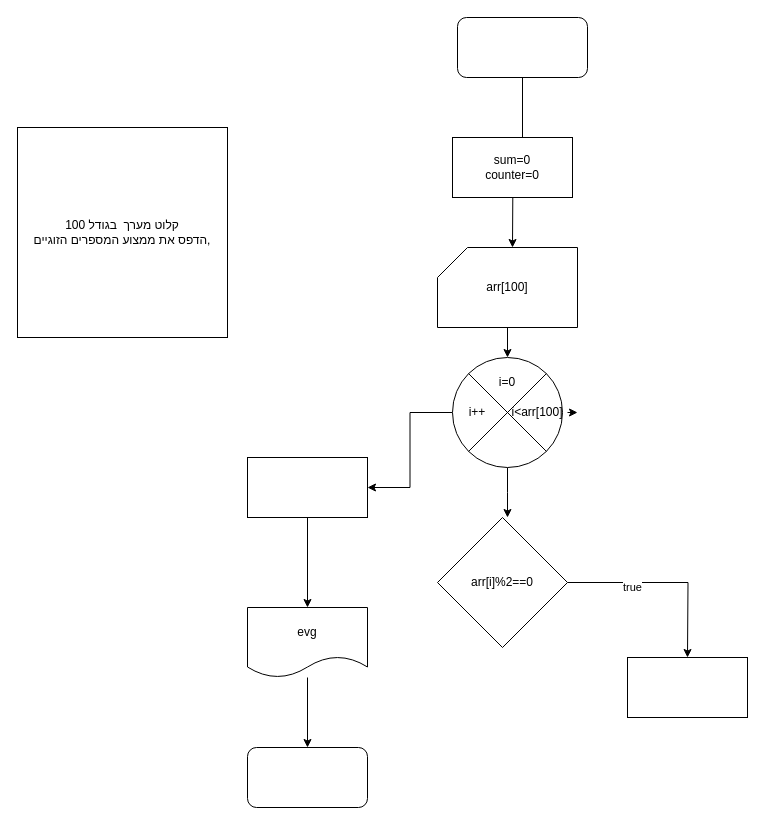
Image size: 765x825. Some labels were removed from this diagram. The centre of each missing label's shape, as x and y in pixels:
"avg=sum/counter" belongs at point 307,487.
"start" belongs at point 522,47.
"sum=sum+arr[i] counter=counter+1" belongs at point 687,687.
